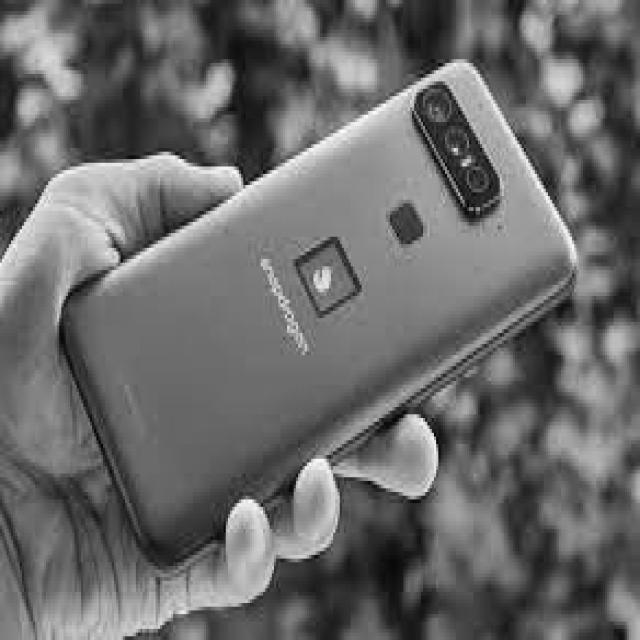No gun_phone: (64, 61, 578, 573)
